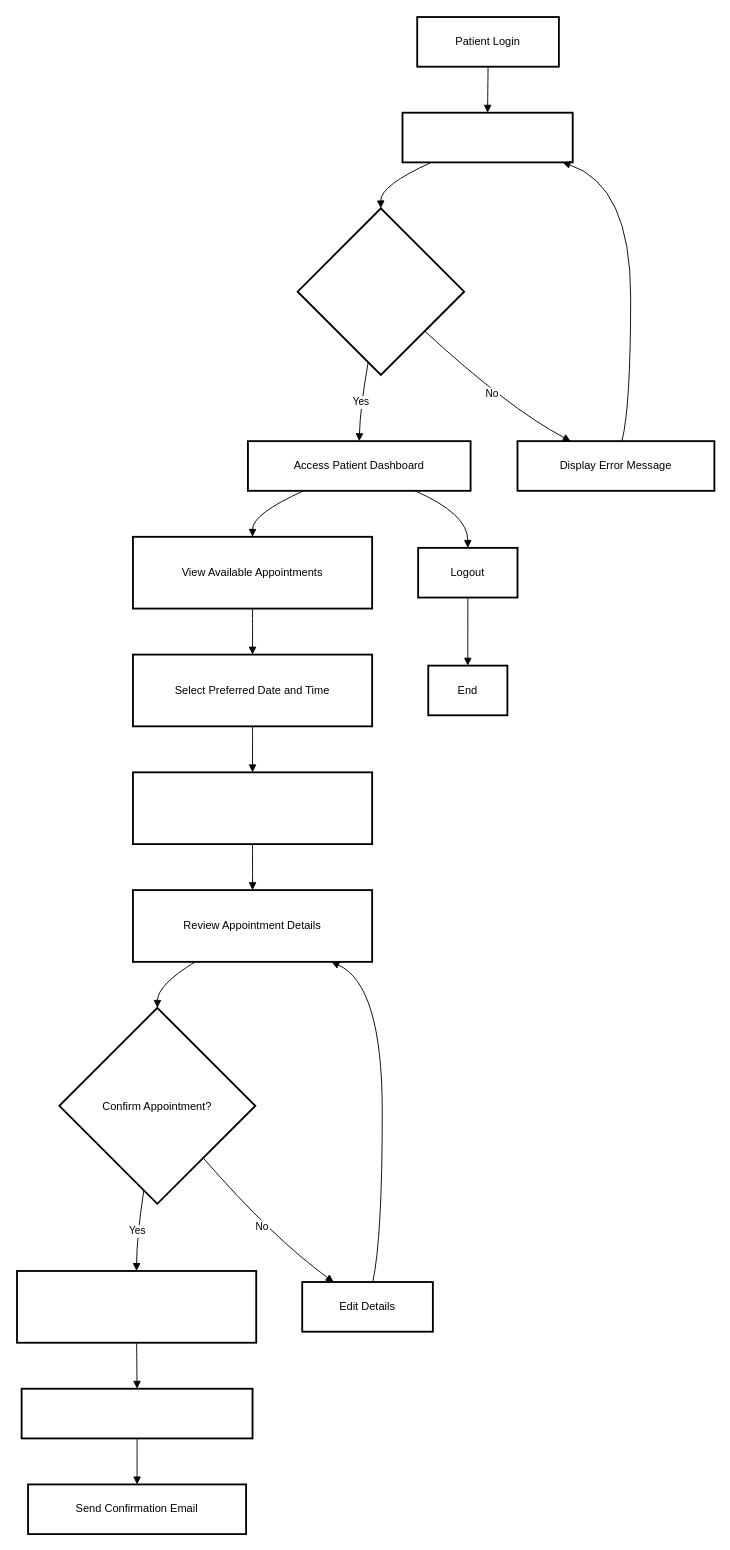
Image size: 730x1550. Some labels were removed from this diagram. Each missing label, with the box of its shape:
Appointment Confirmation: (20, 1387, 253, 1439)
Credentials Valid?: (296, 207, 465, 375)
Enter Credentials: (401, 111, 573, 163)
Input Additional Information: (132, 771, 373, 845)
Submit Appointment Request: (16, 1270, 257, 1343)
